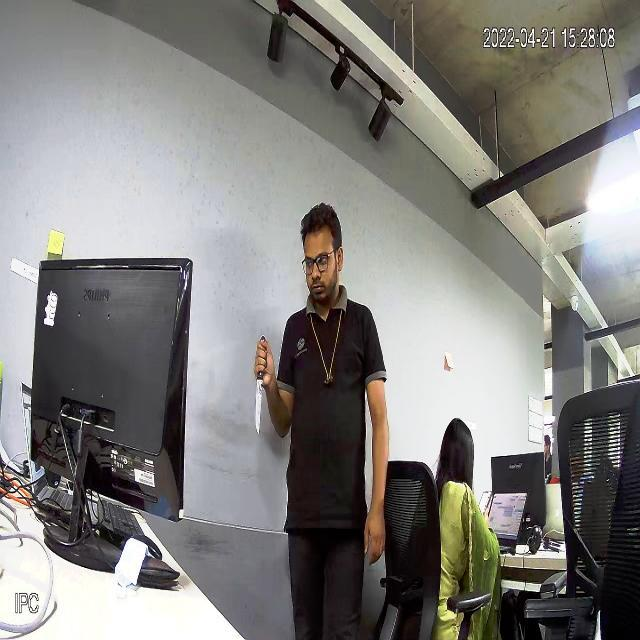Knife: (246, 336, 277, 446)
